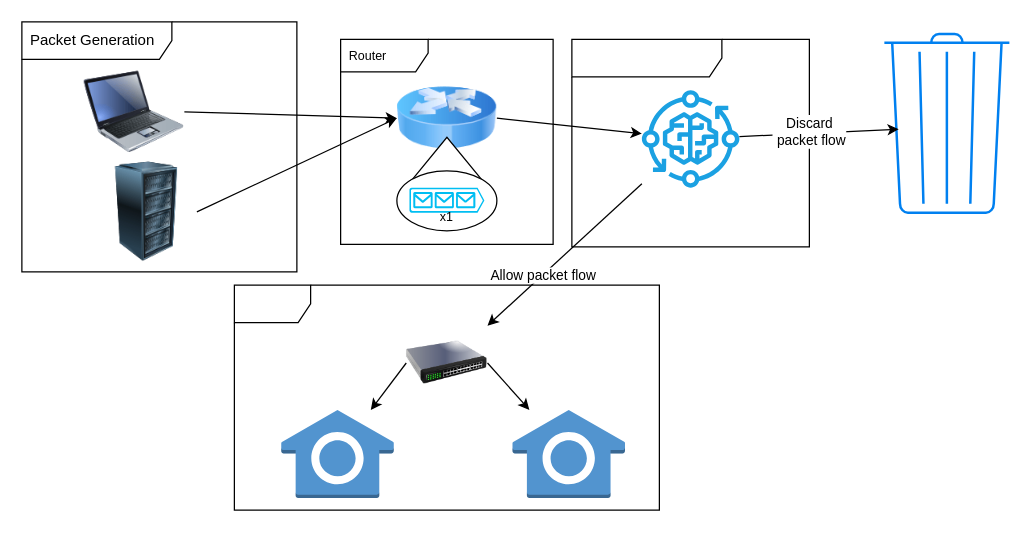
Image size: 1033x533. Some labels were removed from this diagram. The shapes that lost their labels are listed below. From the top down, each one's box as (x1, y1, x2, y2) in pixels, then its label:
(571, 38, 809, 247): Agent
(233, 284, 659, 510): IoT LAN
